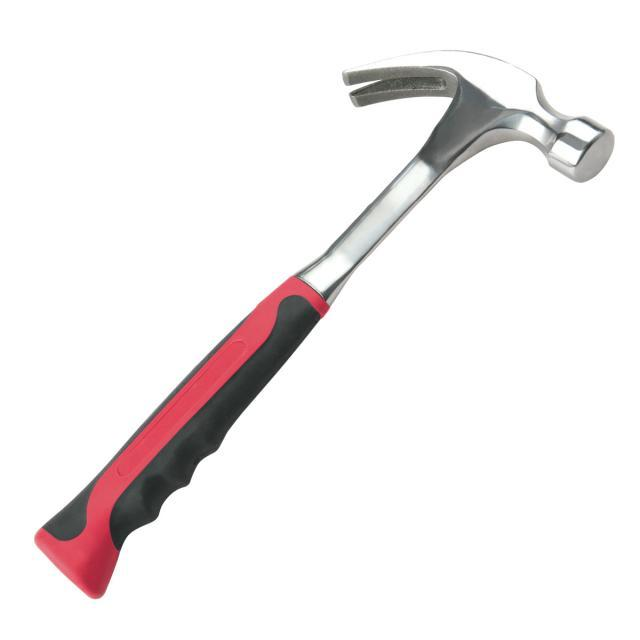hammer: (22, 42, 614, 605)
